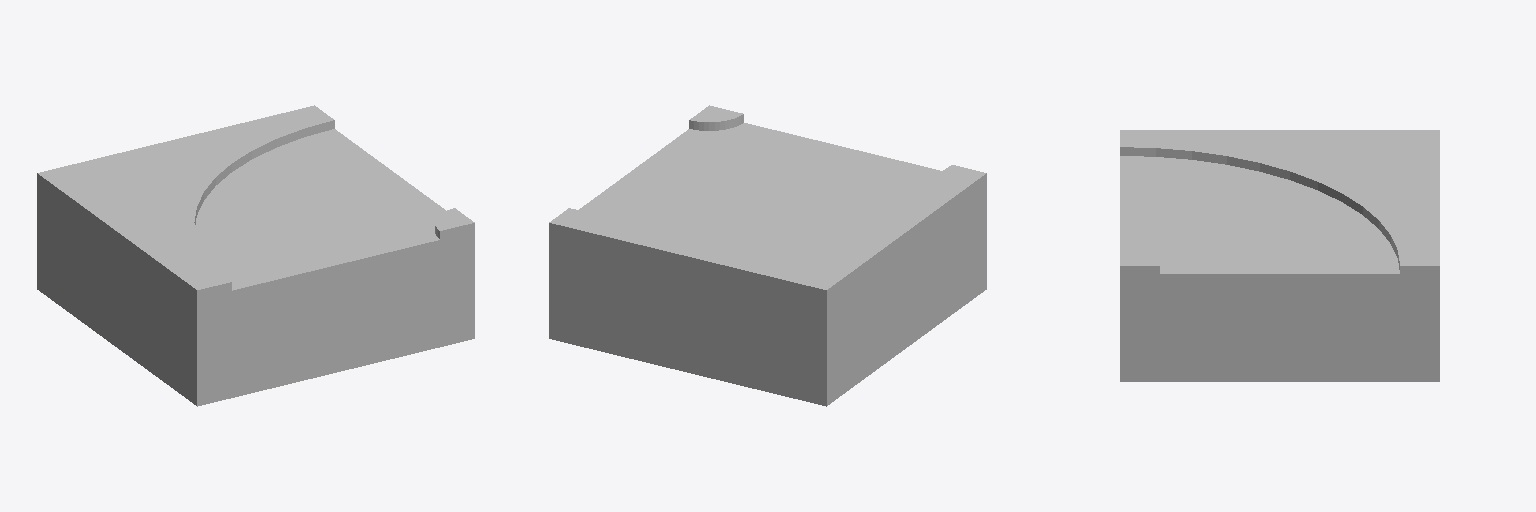
Rendered from tile_100.obj.
3 renders of one model, left to right at view 1: azimuth 30°, elevation 25°; view 2: azimuth 150°, elevation 25°; view 3: azimuth 270°, elevation 25°, orthographic.
Visible parts, largest first — view 1: tile_100; view 2: tile_100; view 3: tile_100.
Part boxes in pixels (bbox=[...]): tile_100: bbox=[37, 105, 474, 406]; tile_100: bbox=[549, 105, 986, 406]; tile_100: bbox=[1120, 130, 1439, 381].
Size of the model in its own units: 1 by 0.4 by 1.